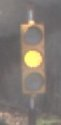Yellow: (17, 14, 45, 103)
